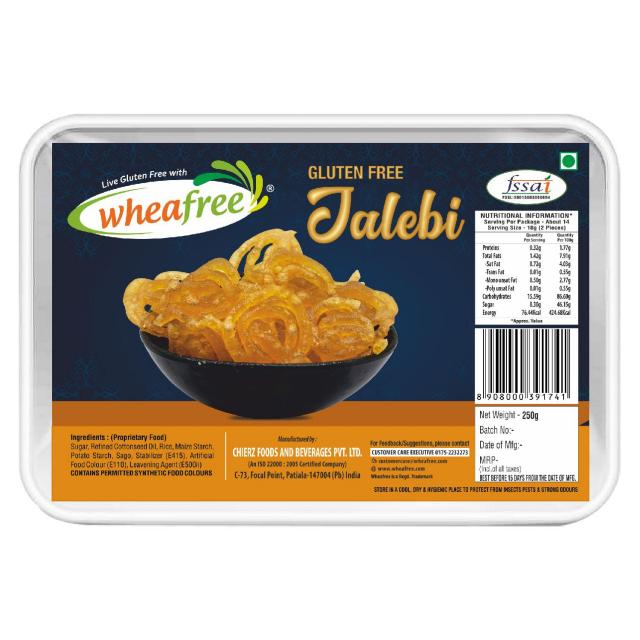jalebi: (126, 219, 409, 379)
